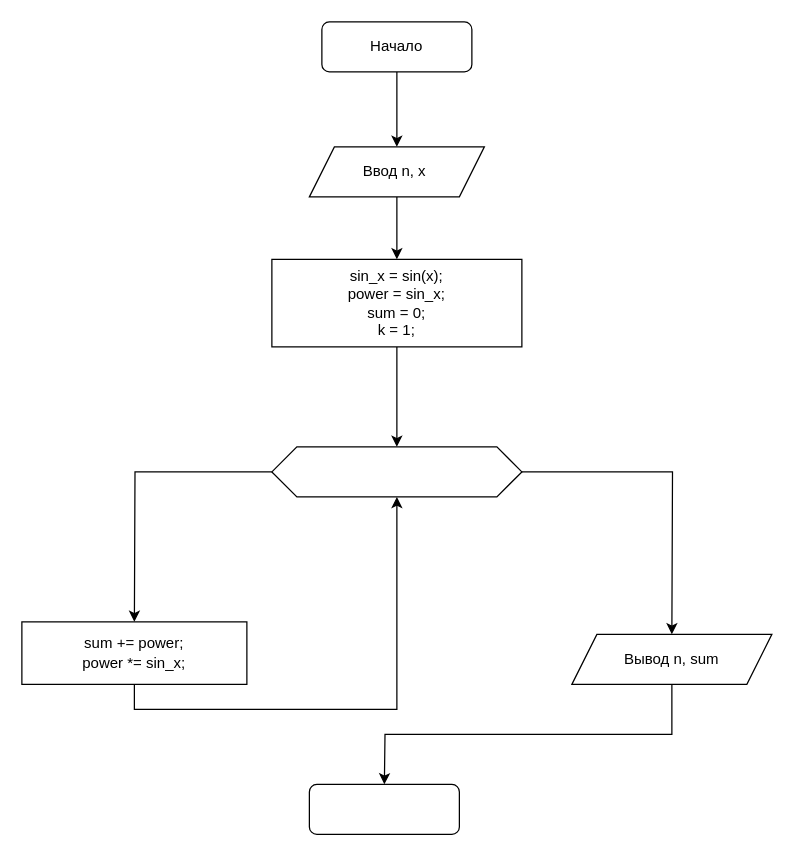
The diagram is 794 pixels wide and 856 high, and some of its shapes have lost their labels. Here are the shapes that lost their labels. From the top down, the box of each, then its label:
(271, 446, 522, 497): int k = 1; k <= n; k++
(308, 783, 459, 834): Конец
